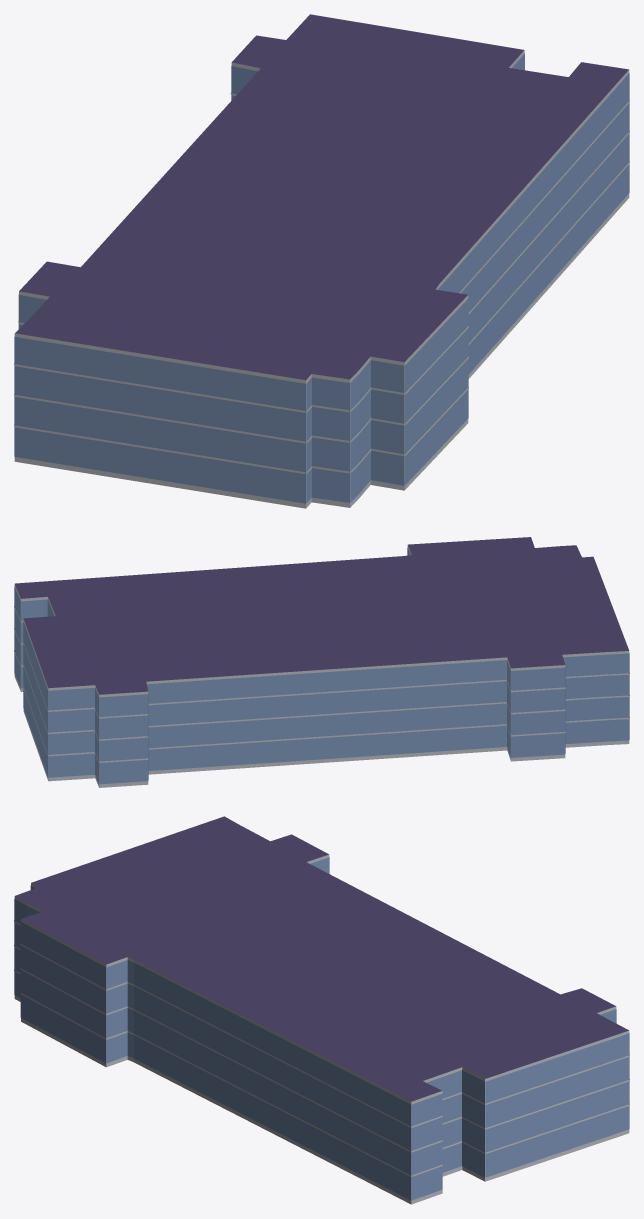
The model's file is core-north-campus-building-day.glb.
3 renders of one model, top to bottom at view 1: azimuth 30°, elevation 25°; view 2: azimuth 150°, elevation 25°; view 3: azimuth 270°, elevation 25°, orthographic. The views are drawn at different scales.
Visible parts, largest first — view 1: campus/core-north-campus-building-day-0; view 2: campus/core-north-campus-building-day-0; view 3: campus/core-north-campus-building-day-0.
Part boxes in pixels (x1=…): campus/core-north-campus-building-day-0: x1=14, y1=14, x2=629, y2=508; campus/core-north-campus-building-day-0: x1=14, y1=537, x2=629, y2=787; campus/core-north-campus-building-day-0: x1=14, y1=816, x2=629, y2=1204.
Size of the model in its own units: 90.09 by 15.1 by 82.02.
